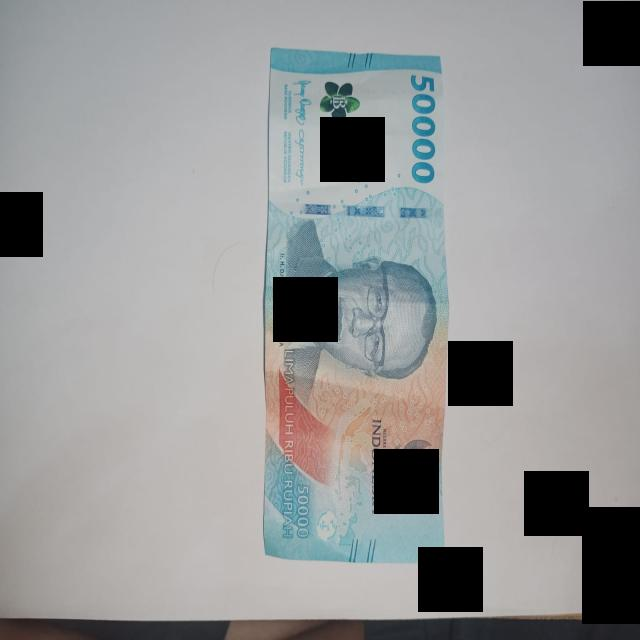lima puluh ribu rupiah: (264, 48, 449, 563)
